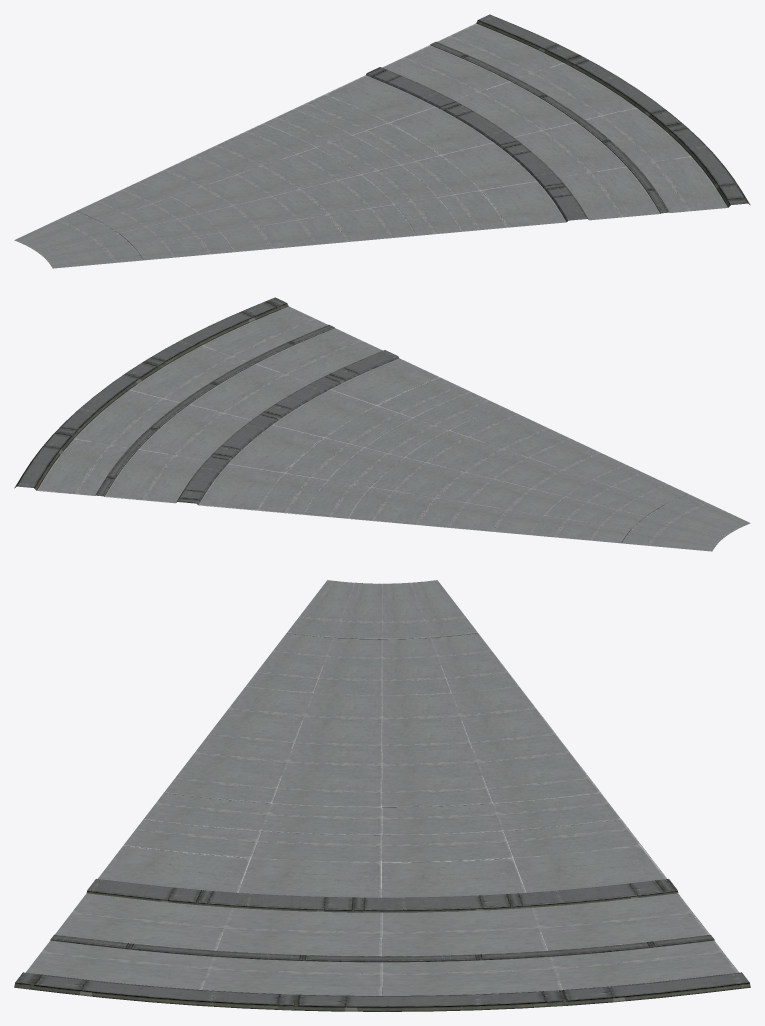
The model's file is Club_RingOutFloor3x_01.FBX.
3 views of the same model, one above another, from view 1: azimuth 30°, elevation 25°; view 2: azimuth 150°, elevation 25°; view 3: azimuth 270°, elevation 25° (orthographic). The views are drawn at different scales.
Parts seen in each view (by area): view 1: Club_RingOutFloor3x_01; view 2: Club_RingOutFloor3x_01; view 3: Club_RingOutFloor3x_01.
Boxes of the visible parts, <box> form: Club_RingOutFloor3x_01: <box>14,14,750,268</box>; Club_RingOutFloor3x_01: <box>14,297,750,551</box>; Club_RingOutFloor3x_01: <box>14,580,750,1011</box>.
Bounding box in the file's own units: 40.88 × 0.1596 × 29.48.
